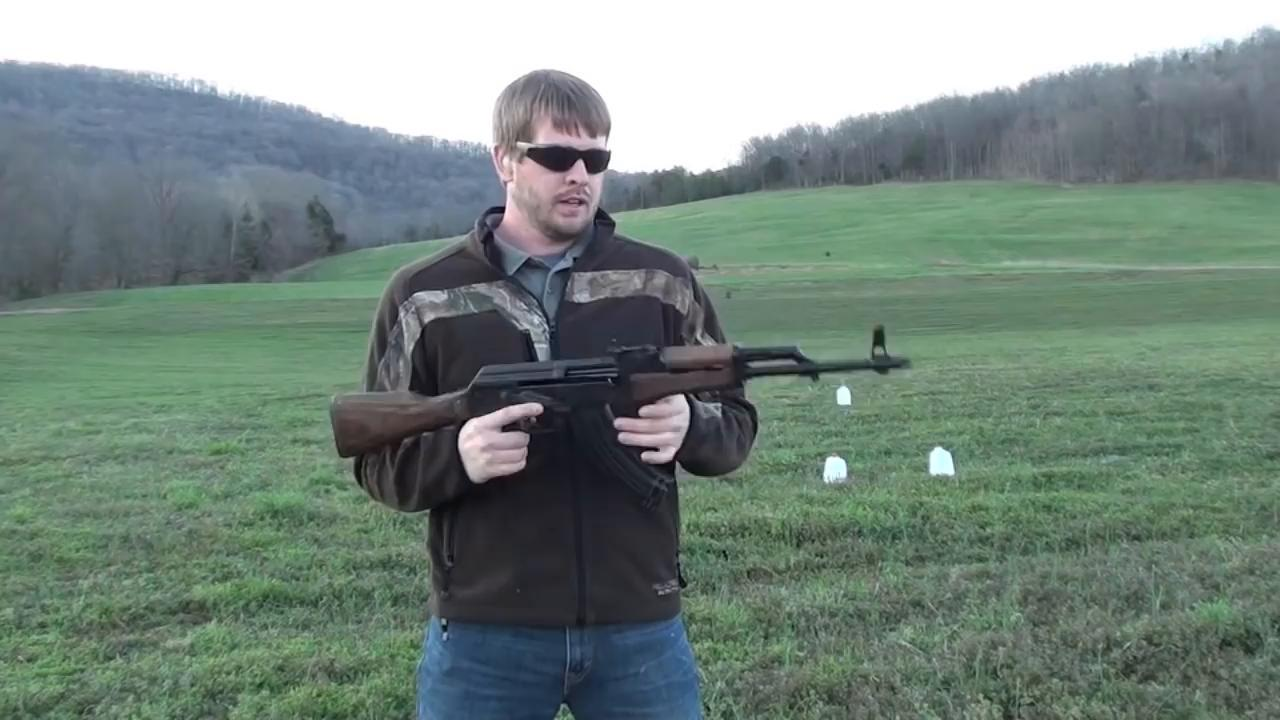AK47 Rifle: (324, 325, 917, 462)
